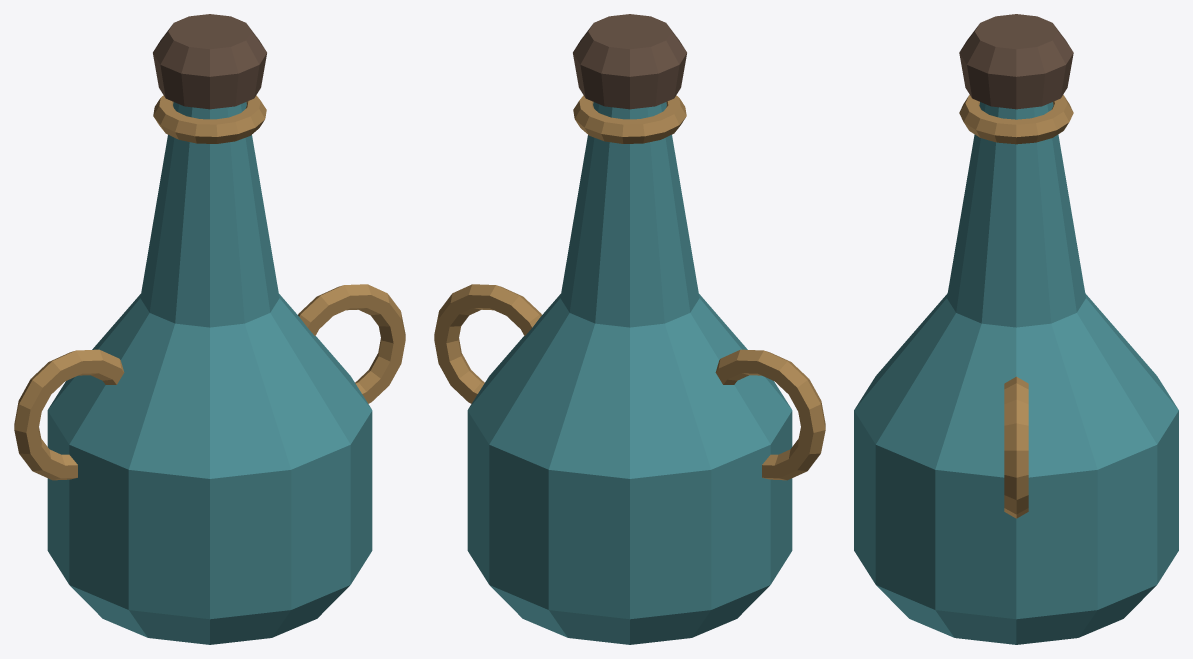
The model's file is AE_Item_TideMemory.fbx.
The picture shows the model from 3 angles, left to right: view 1: azimuth 30°, elevation 25°; view 2: azimuth 150°, elevation 25°; view 3: azimuth 270°, elevation 25°; orthographic projection.
Parts seen in each view (by area): view 1: AE_Item_TideMemory; view 2: AE_Item_TideMemory; view 3: AE_Item_TideMemory.
Boxes of the visible parts, bbox=[...] form: AE_Item_TideMemory: bbox=[14, 14, 405, 644]; AE_Item_TideMemory: bbox=[434, 14, 825, 644]; AE_Item_TideMemory: bbox=[854, 14, 1178, 644].
Size of the model in its own units: 0.292 by 0.4 by 0.21.
